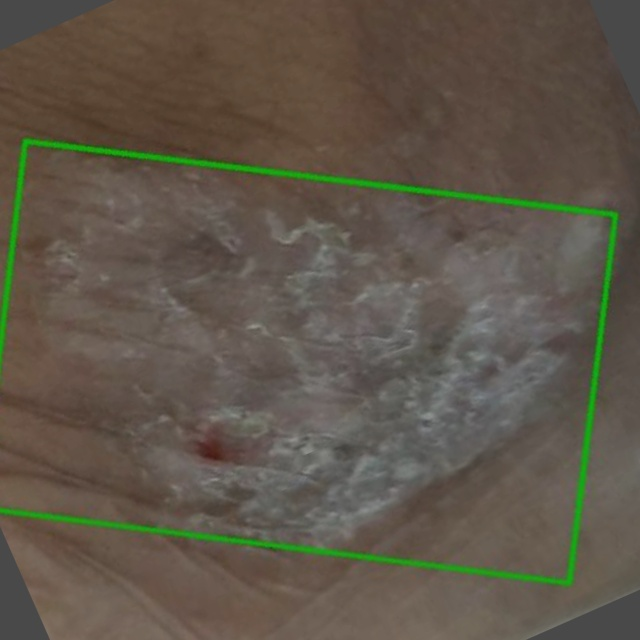Eczema: (0, 135, 619, 583)
